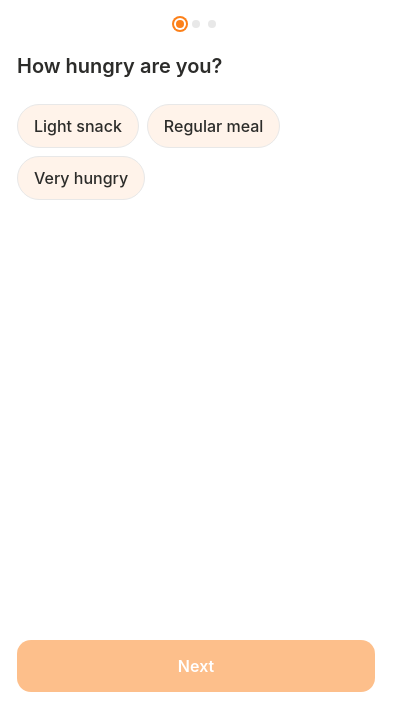
Scenario: Questions — Q3 → freetext step advance (Item 12) › freetext heading 'Anything specific?' is visible after advancing from Q3
The width and height of the screenshot is (393, 710).
Step 1. Click the radio button labelled "Regular meal" → (214, 126), box [147,104,280,148]
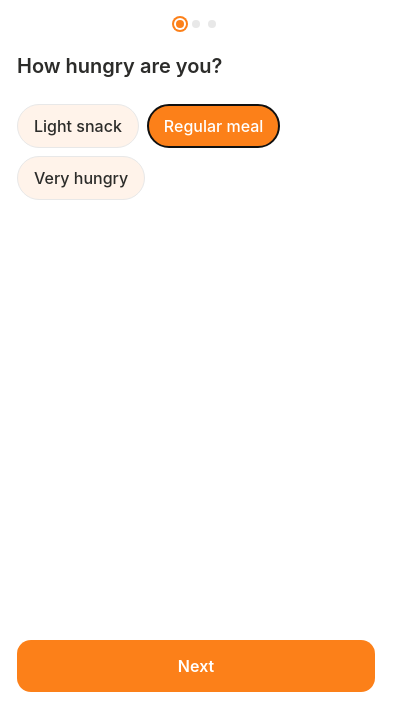
Step 2. Click the button "Next" → (196, 666), box [17,640,375,692]
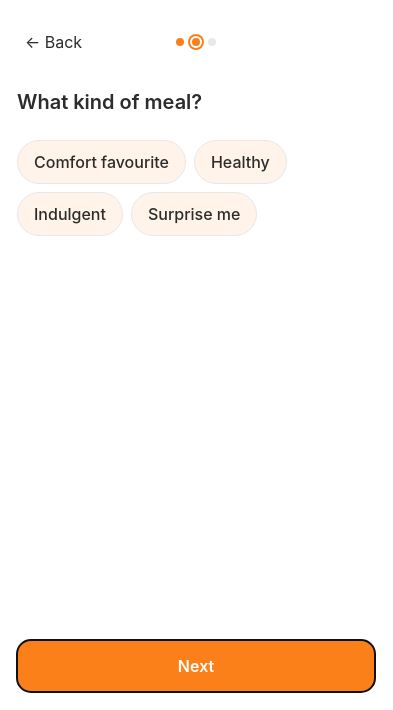
Step 3. Click the button "Next" → (196, 666), box [17,640,375,692]
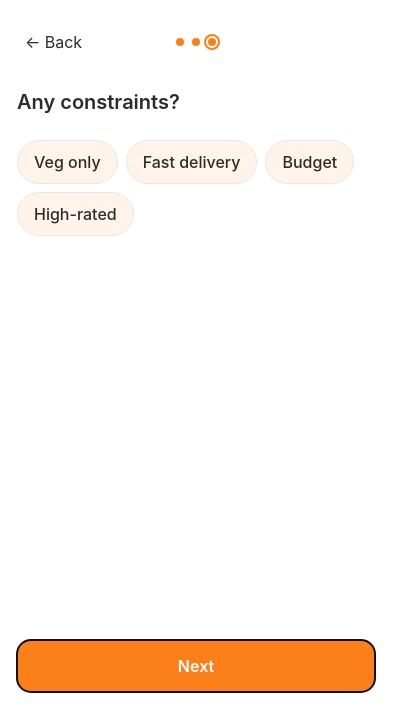
Step 4. Click the button "Next" → (196, 666), box [17,640,375,692]
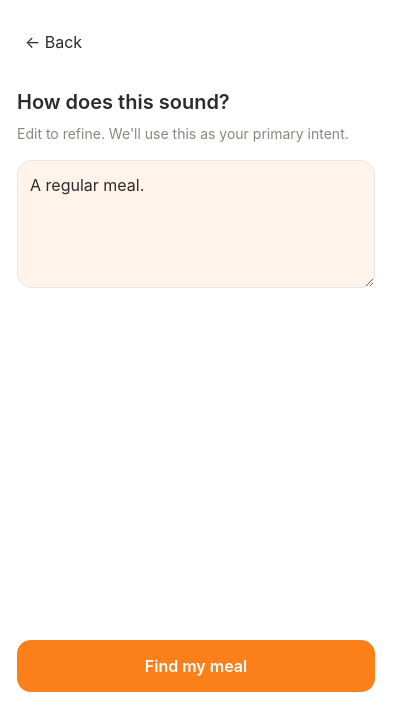
Expected: the heading "How does this sound?" is shown, [17,90,230,114]
